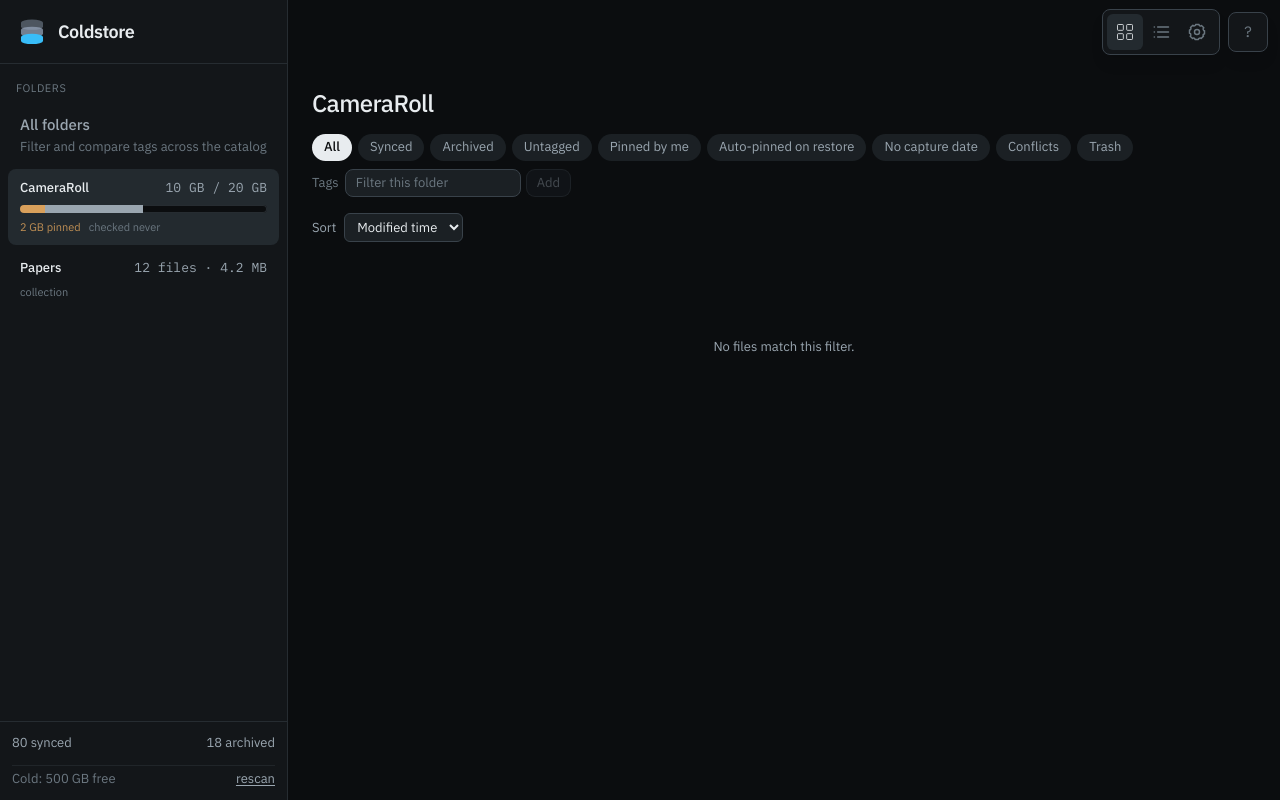
App › should list a collection in the sidebar and request its files with folder=<name> when selected
Click the button "Papers 12 files · 4.2 MB collection" at point(41, 268), box [8, 249, 279, 310]
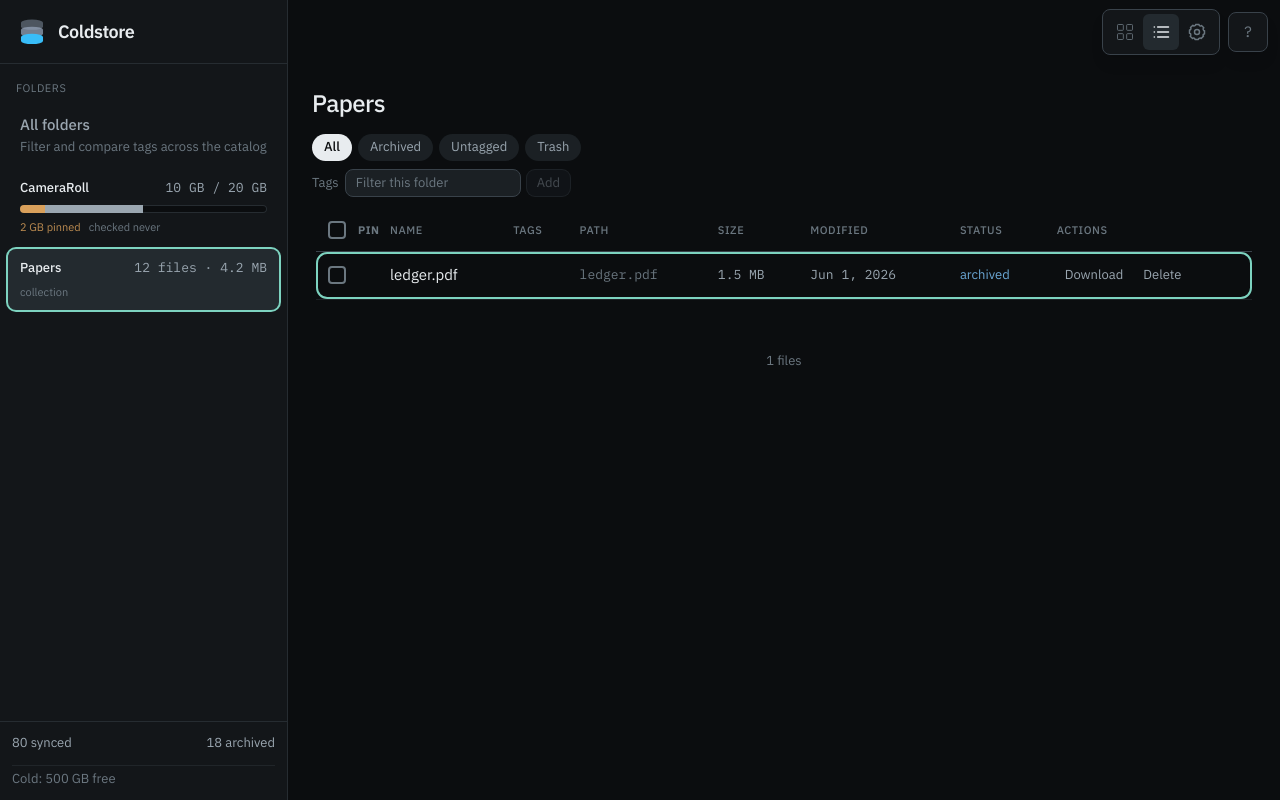
Expected: the button "ledger.pdf" is shown, [390, 264, 458, 287]
